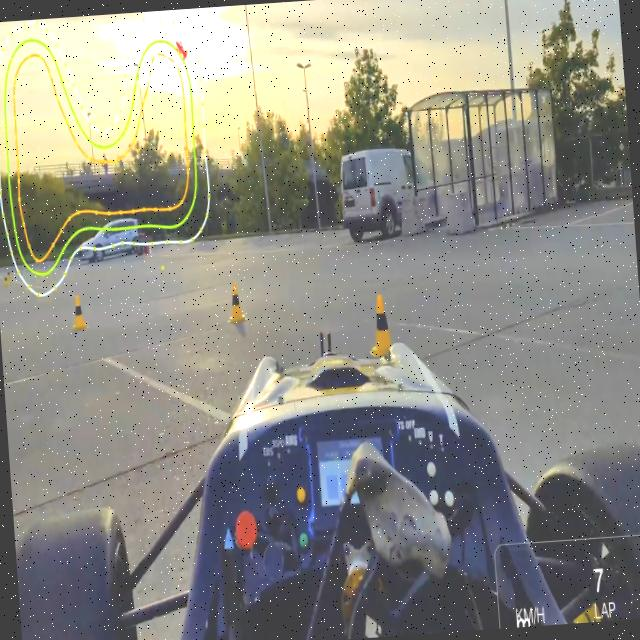yellow_cone: (366, 288, 398, 361), (222, 278, 250, 332), (66, 286, 92, 336), (3, 275, 10, 287), (6, 268, 10, 280)
